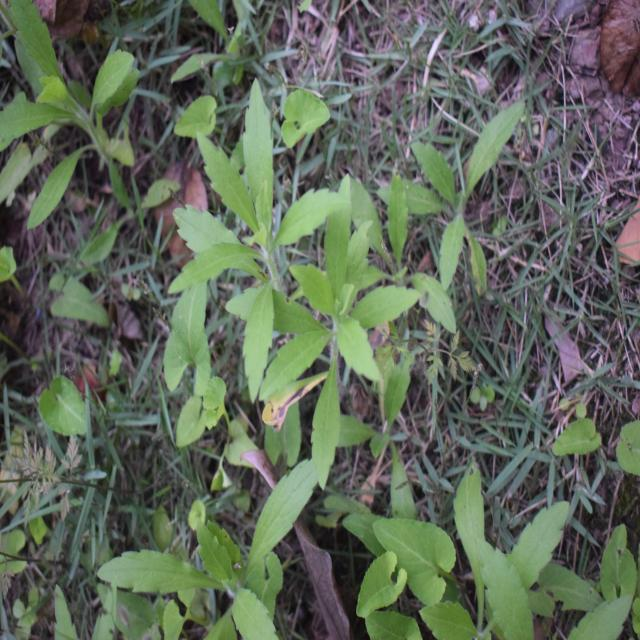horseweed: (180, 107, 325, 386), (286, 211, 412, 432)
